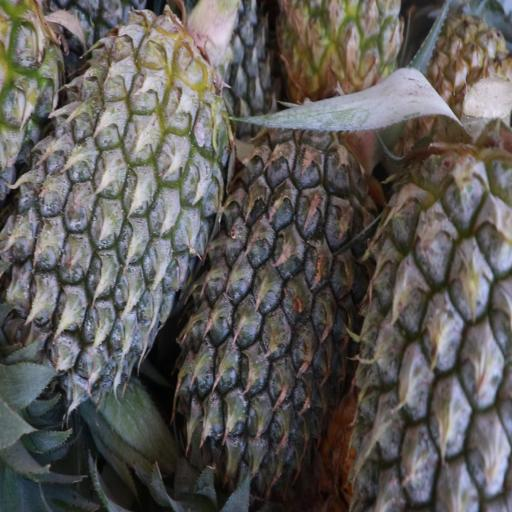------------------------------: (278, 0, 400, 104)
